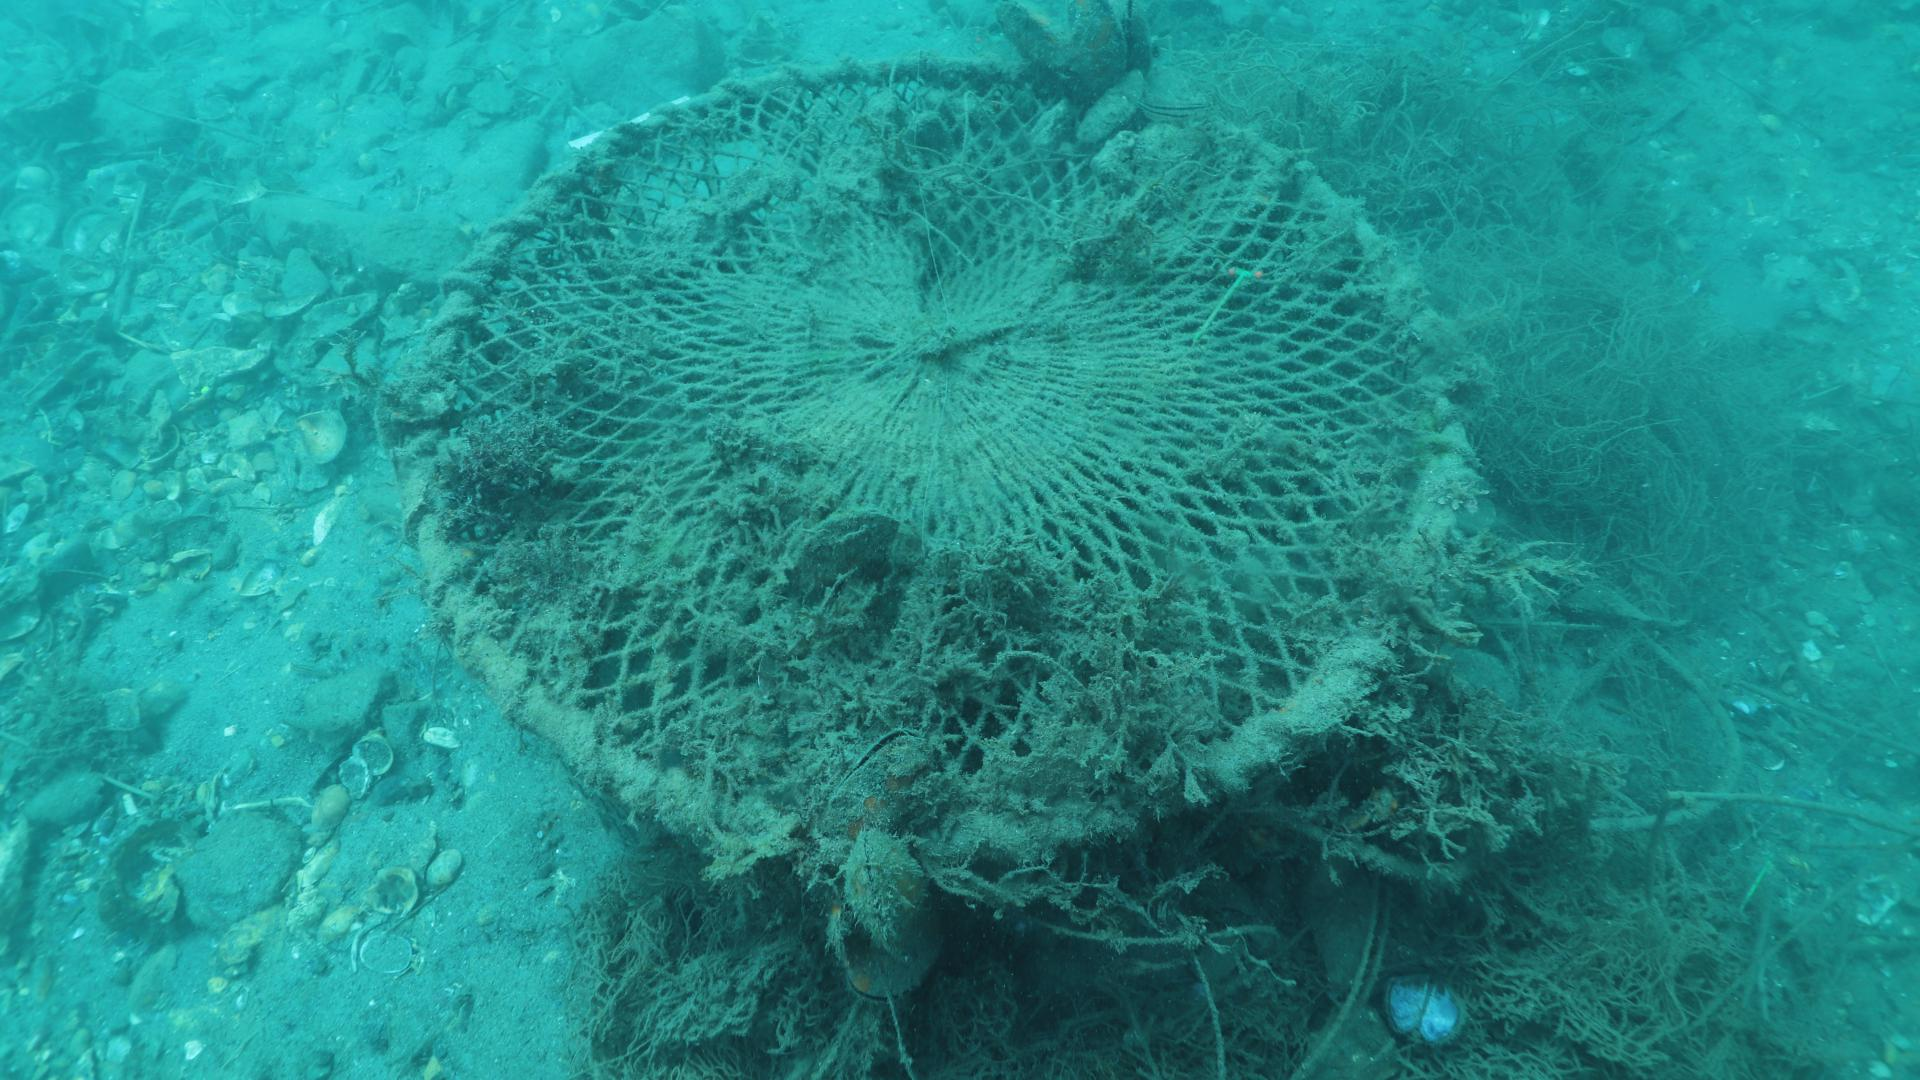circular fish trap: (392, 47, 1487, 885)
